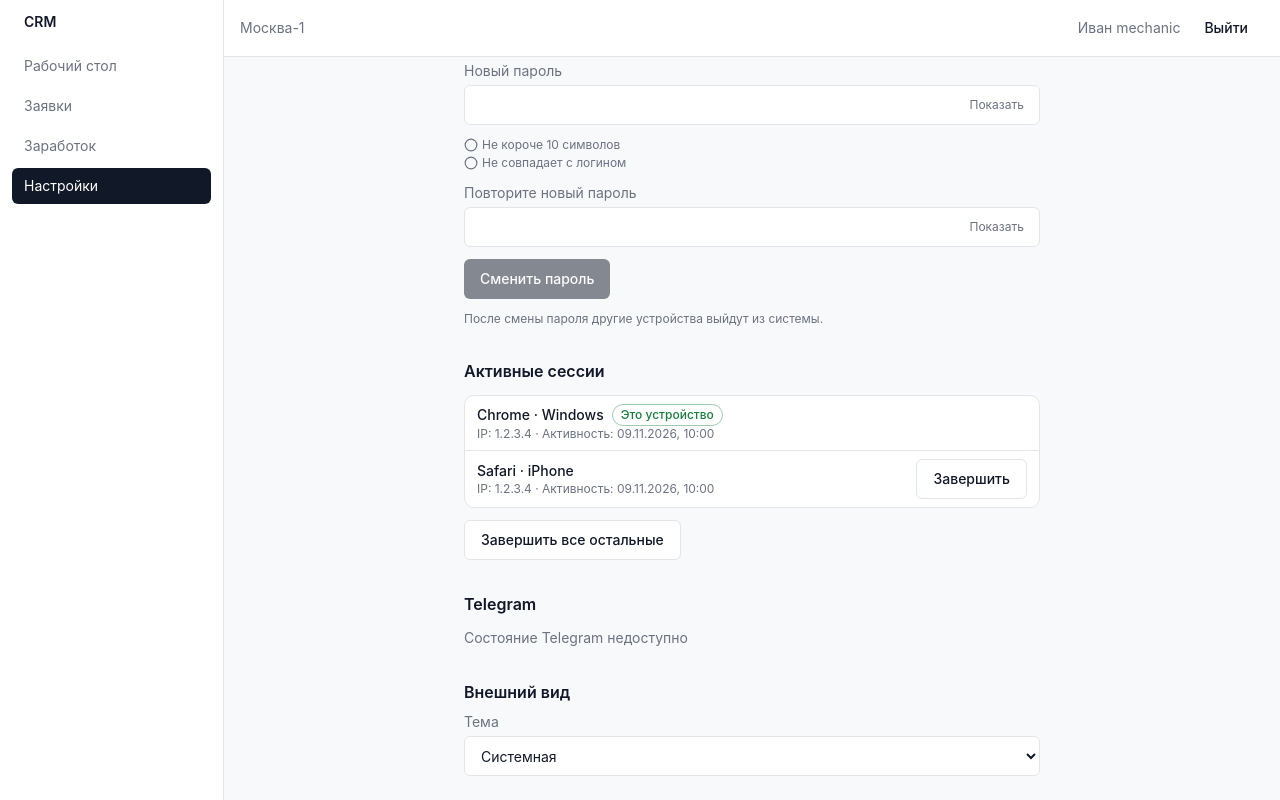
Test: сессии C-02 и D-05 › список, метка «Это устройство», завершение с подтверждением и «Завершить все остальные»
(page scrolled)
Expected: the text "Safari · iPhone" is shown, x1=477 y1=462 x2=574 y2=479
Expected: the text "Это устройство" is shown, x1=612 y1=404 x2=723 y2=426
Click the button "Завершить": (972, 479) x1=916 y1=459 x2=1027 y2=499
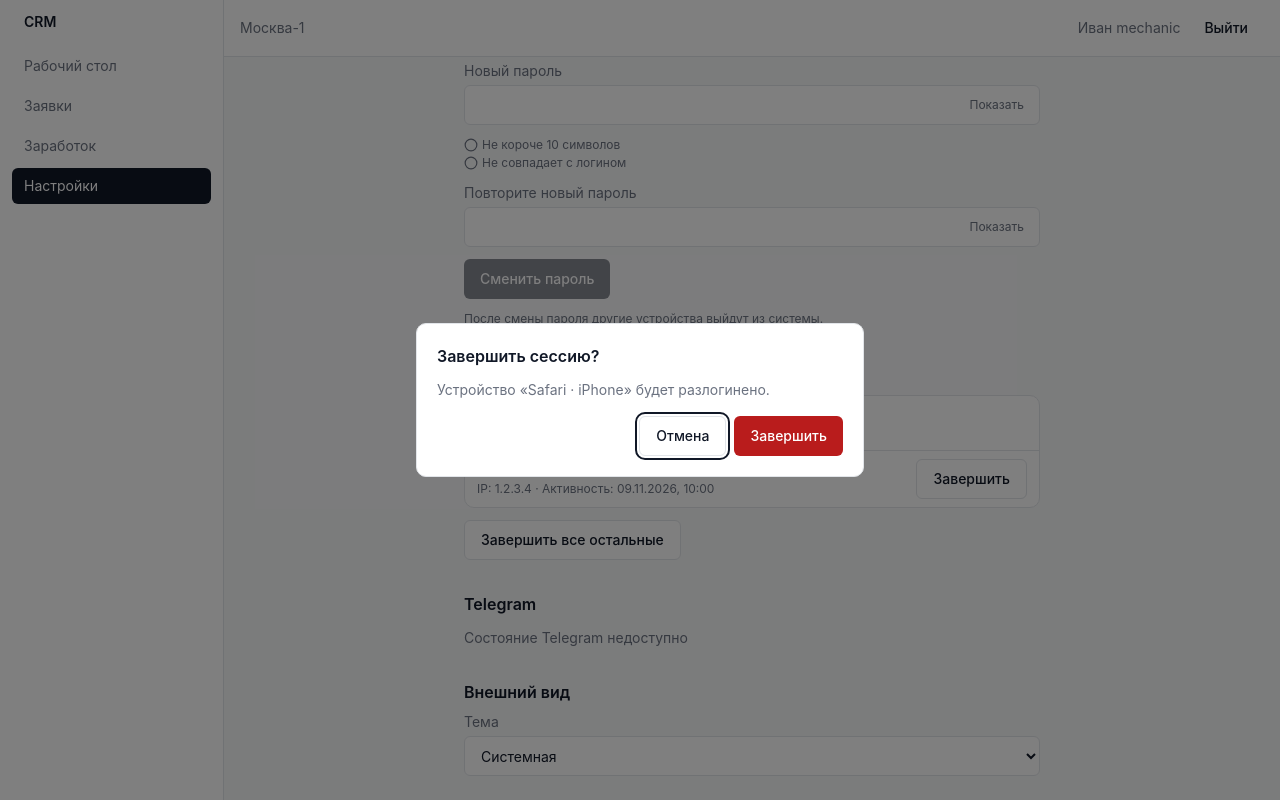
Click the button "Завершить": (789, 436) x1=734 y1=416 x2=843 y2=456
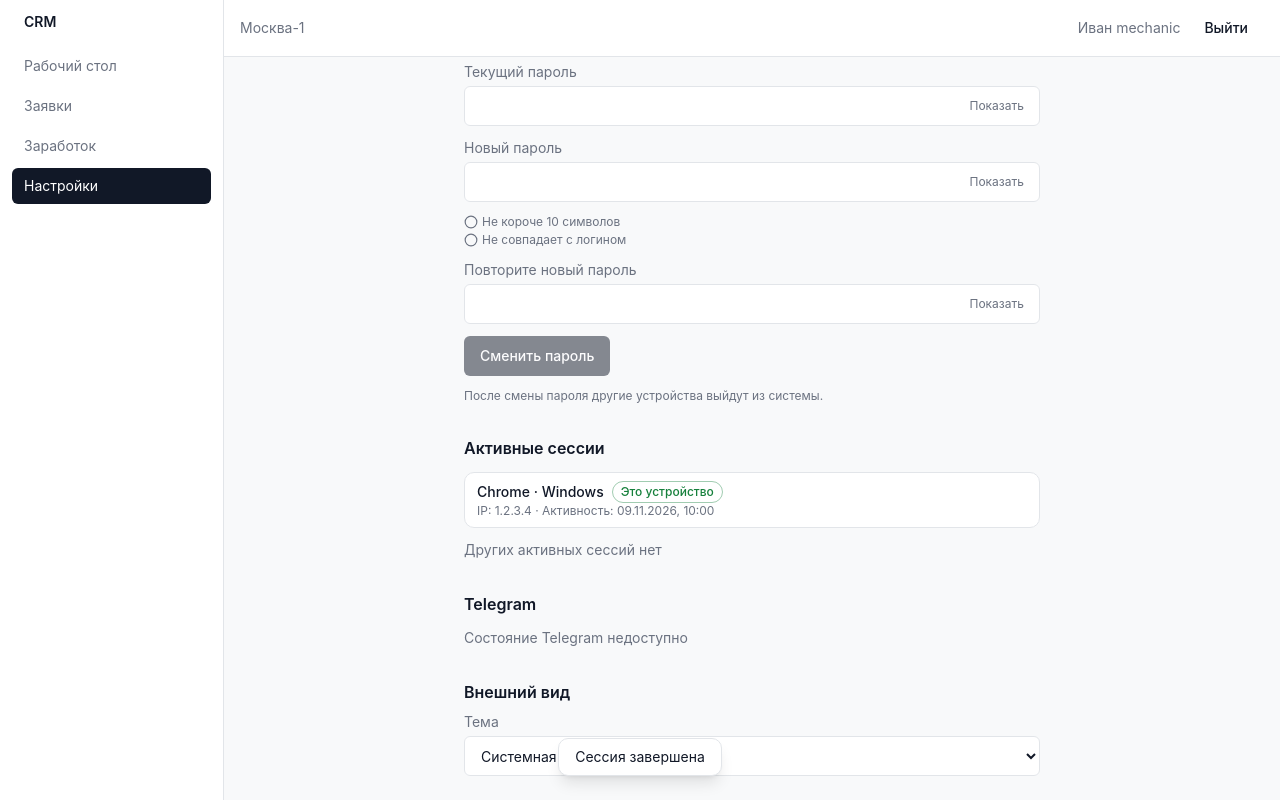
Expected: the text "Других активных сессий нет" is shown, x1=464 y1=541 x2=662 y2=558
Expected: the button "Завершить все остальные" is gone
